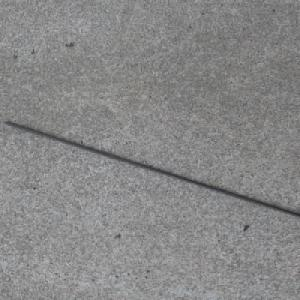LuggagePart: (3, 120, 300, 218)
